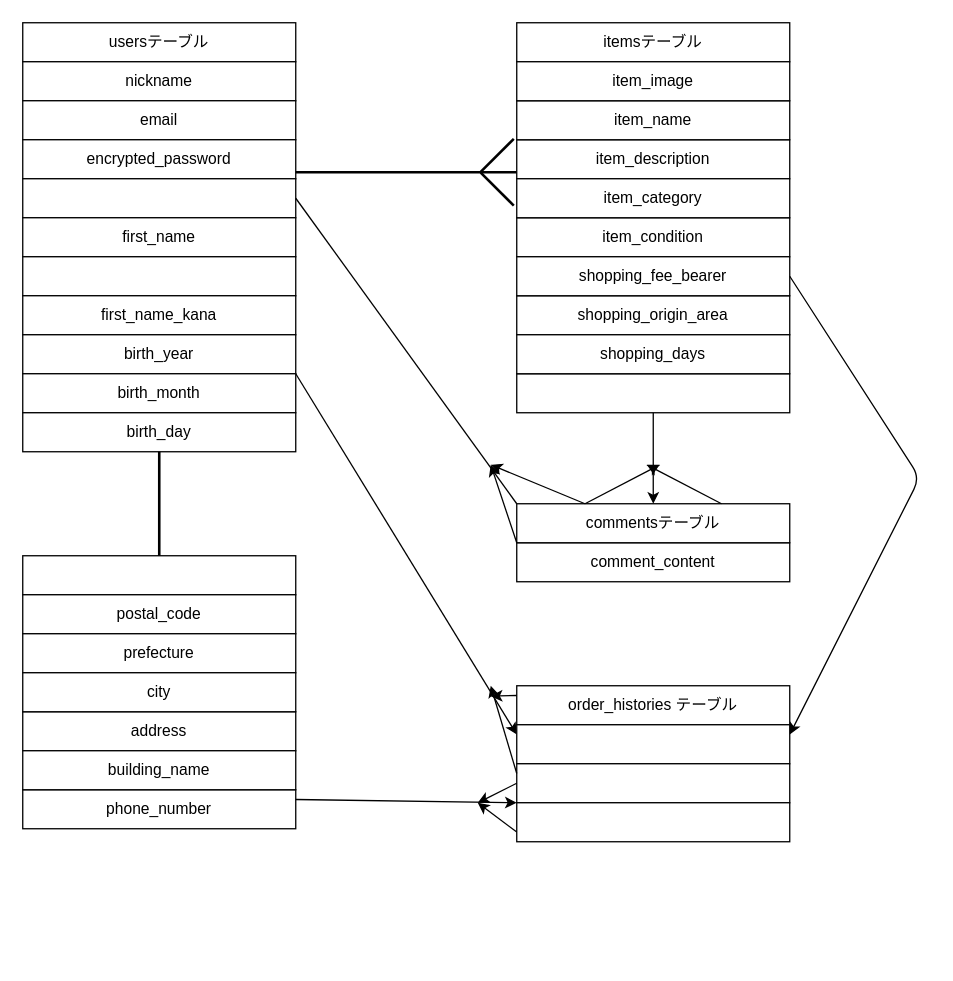
The diagram is 953 pixels wide and 981 high, and some of its shapes have lost their labels. The centre of each missing label's shape, as x and y in pixels:
"deliveriesテーブル" belongs at point 158,574.
"delivery_id" belongs at point 652,821.
"item_id" belongs at point 652,782.
"item_price" belongs at point 652,392.
"last_name" belongs at point 158,197.
"last_name_kana" belongs at point 158,275.
"user_id" belongs at point 652,743.
